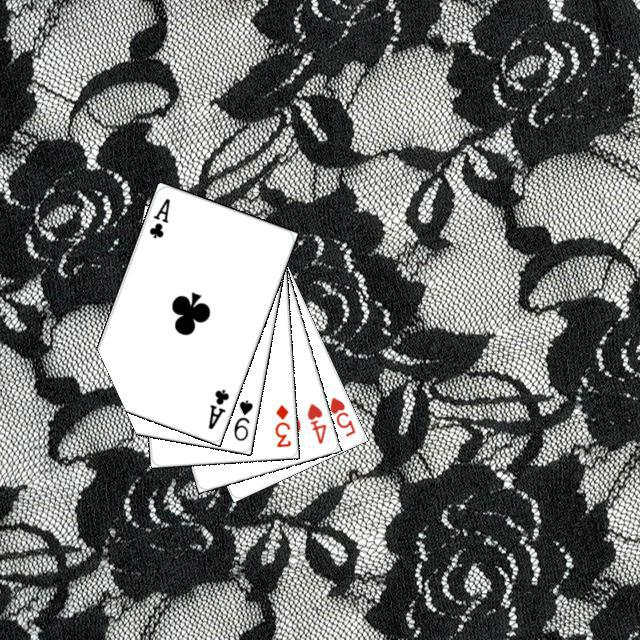3d: (270, 400, 292, 449)
4h: (302, 398, 328, 446)
5h: (325, 392, 357, 439)
9s: (229, 395, 254, 442)
Ac: (203, 384, 231, 431), (144, 193, 172, 240)
